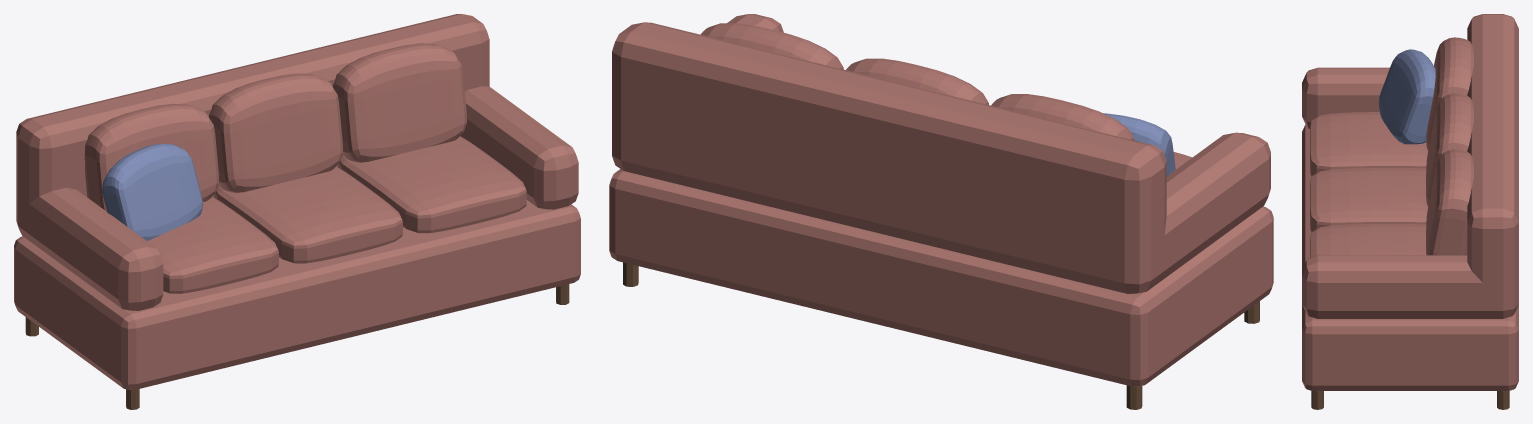
Rendered from sofa.fbx.
3 views of the same model, side by side, from view 1: azimuth 30°, elevation 25°; view 2: azimuth 150°, elevation 25°; view 3: azimuth 270°, elevation 25° (orthographic). The views are drawn at different scales.
Parts seen in each view (by area): view 1: Sofa; view 2: Sofa; view 3: Sofa.
Boxes of the visible parts, <box> form: Sofa: <box>14,14,580,409</box>; Sofa: <box>609,14,1273,409</box>; Sofa: <box>1302,14,1518,409</box>.
Bounding box in the file's own units: 1.9 × 0.8673 × 0.84.
